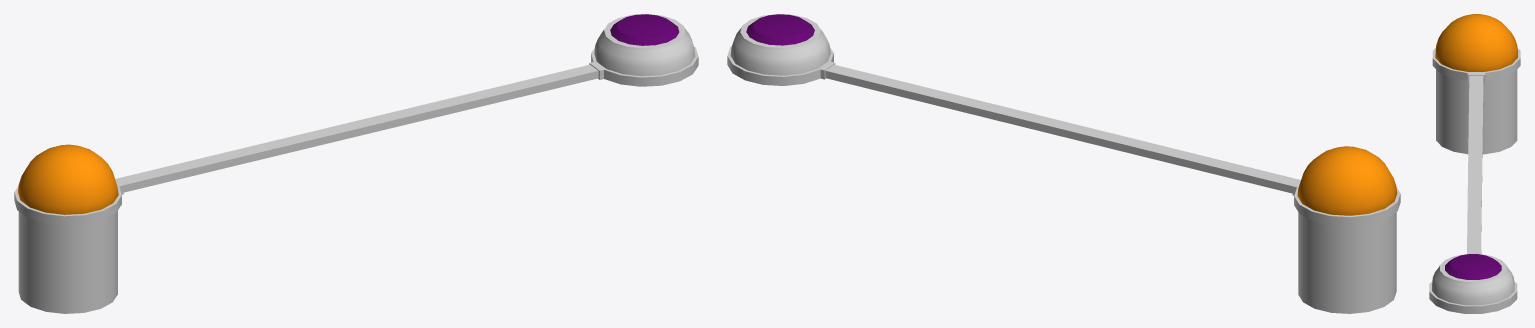
Rendered from turret.fbx.
The picture shows the model from 3 angles, left to right: view 1: azimuth 30°, elevation 25°; view 2: azimuth 150°, elevation 25°; view 3: azimuth 270°, elevation 25°; orthographic projection. The views are drawn at different scales.
Parts seen in each view (by area): view 1: Cylinder.001, Cylinder.002; view 2: Cylinder.001, Cylinder.002; view 3: Cylinder.001, Cylinder.002.
Part boxes in pixels (x1,y1,x2,y2): Cylinder.001: (14, 14, 698, 313); Cylinder.002: (18, 144, 118, 214); Cylinder.001: (727, 14, 1400, 313); Cylinder.002: (1297, 146, 1397, 215); Cylinder.001: (1429, 48, 1520, 313); Cylinder.002: (1435, 14, 1517, 71).
Bounding box in the file's own units: 228 × 46.97 × 32.55.
